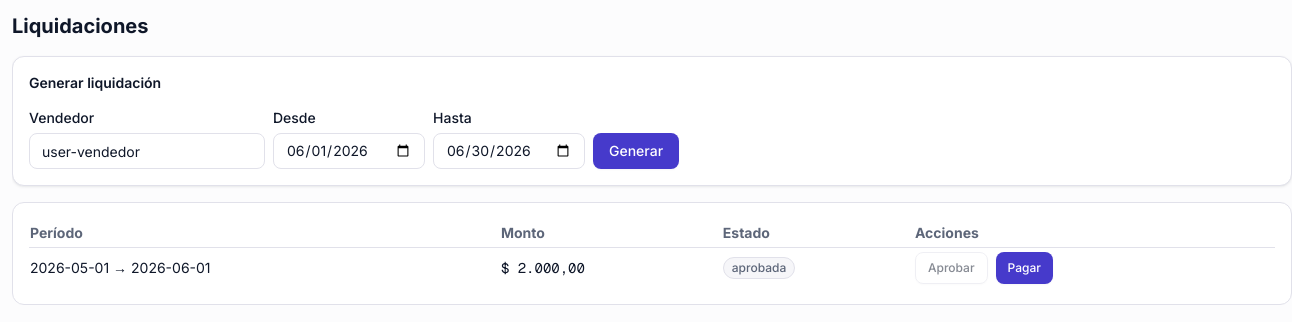
Test case: Botones transaccionales: disable durante la mutacion en vuelo › liquidacion pagar se deshabilita mientras postea
Click the button "Pagar": (1024, 268) [996,252,1053,284]
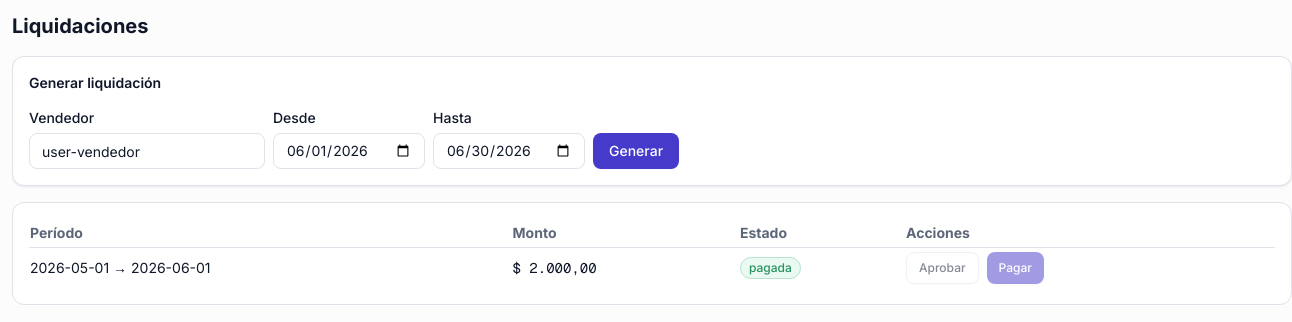
Expected: the button "Pagar" is disabled, [987,252,1044,284]
